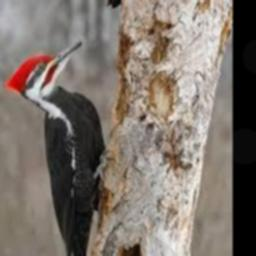Woodpecker: (5, 39, 107, 256)
